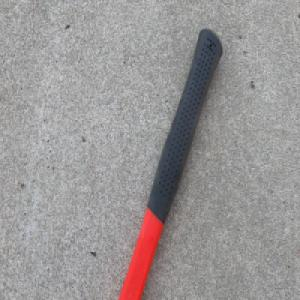Hammer: (115, 23, 224, 300)
